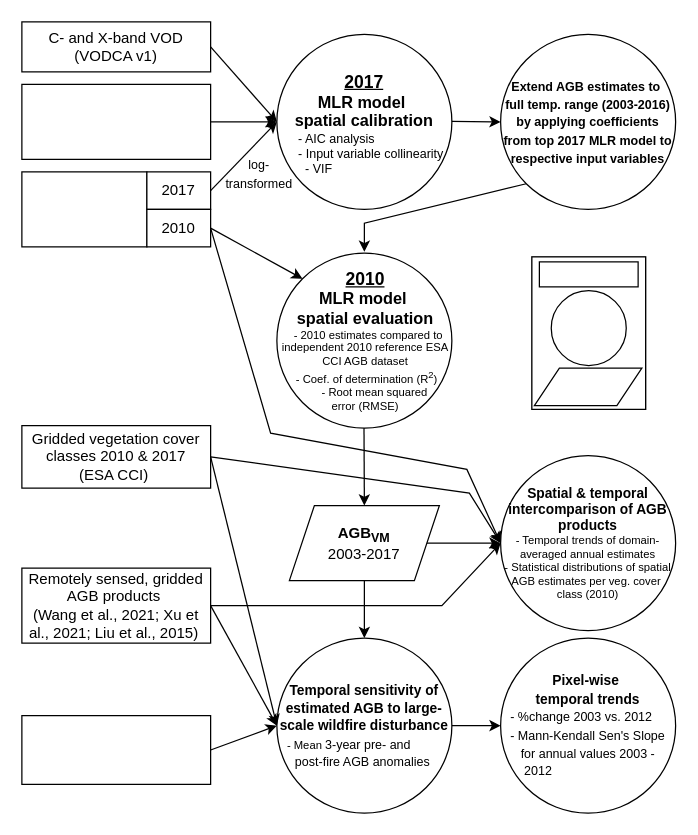
The diagram is 698 pixels wide and 835 high, and some of its shapes have lost their labels. Each missing label, with the centre of its shape:
Data Inputs: (588,274)
Data Outputs: (587,386)
Independent reference AGB (ESA CCI): (84,209)
Large-scale wildfire events 2003-2012 (NIFC; CNFDB): (116,749)
Multispectral VIs (VARI, NDVI, NIRv, LAI) (MODIS MCD43A4.006): (116,121)
Processes or analyses: (588,327)
